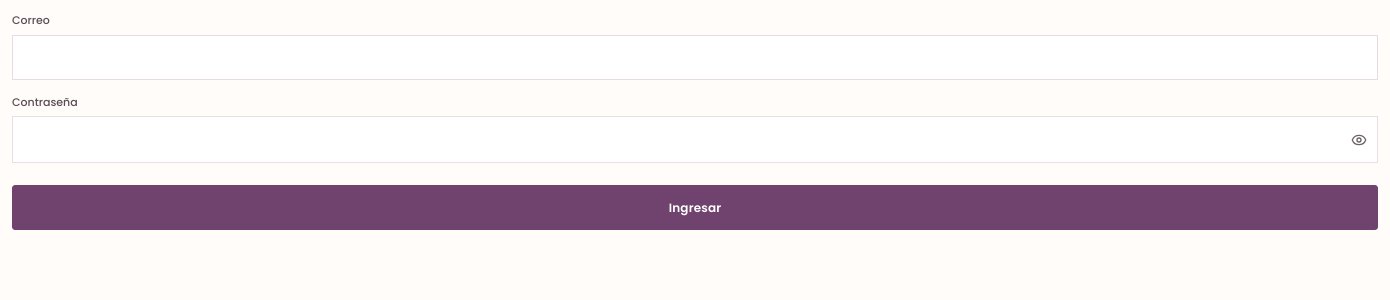
LoginForm › muestra el mensaje del servidor si las credenciales son incorrectas
The image size is (1390, 300).
In the field labelled "Correo": (695,57) top-left (12, 34), bottom-right (1378, 80), type "duena@ejemplo.com"
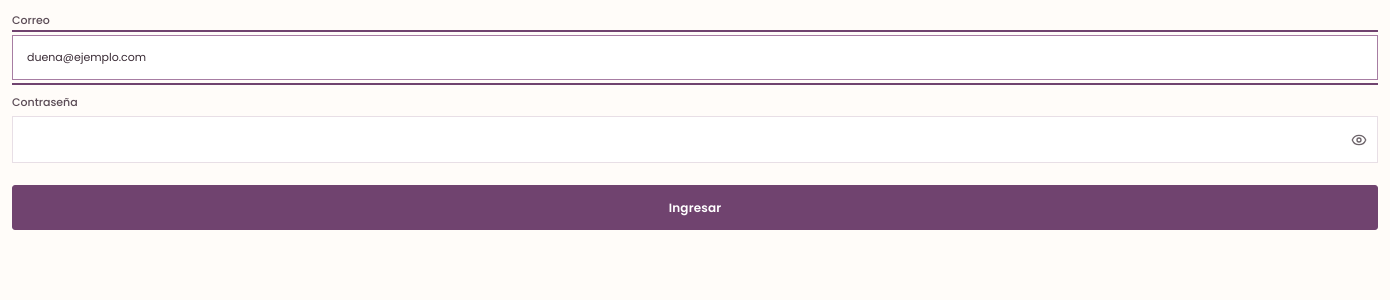
In the password field labelled "Contraseña": (677,140) top-left (13, 117), bottom-right (1341, 162), type "incorrecta-123"
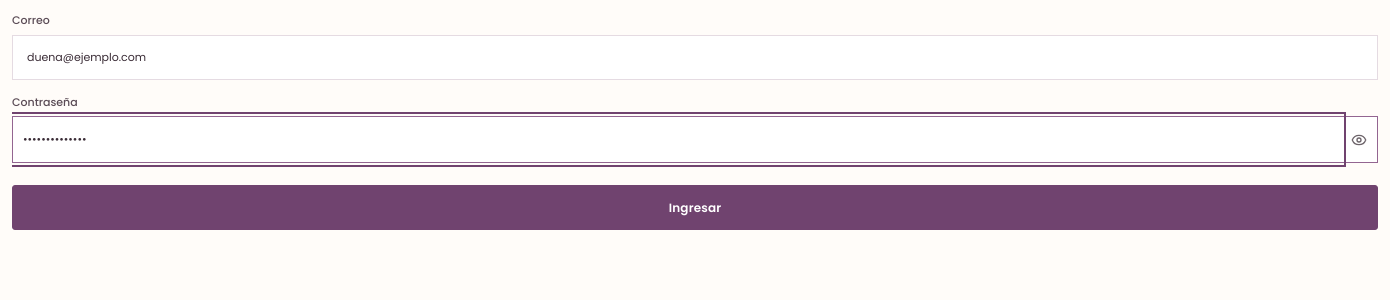
Click the button "Ingresar": (695,208) top-left (12, 185), bottom-right (1378, 230)
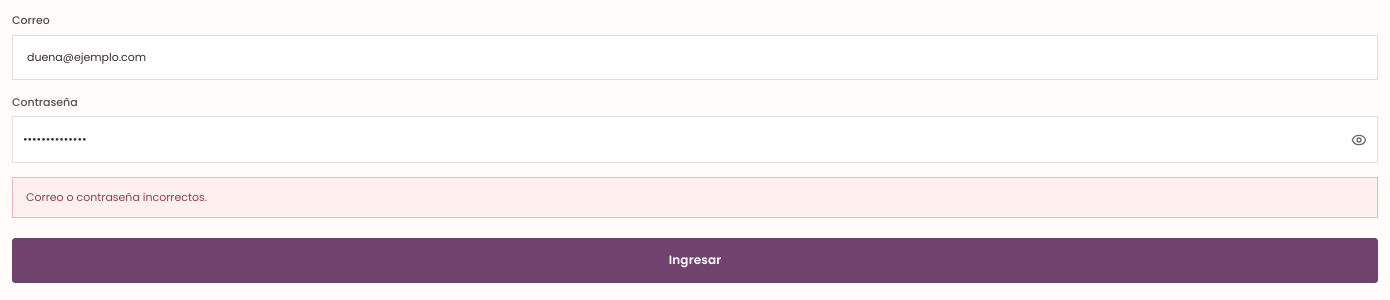
Result: the message reads "Correo o contraseña incorrectos." at top-left (26, 189), bottom-right (207, 205)
